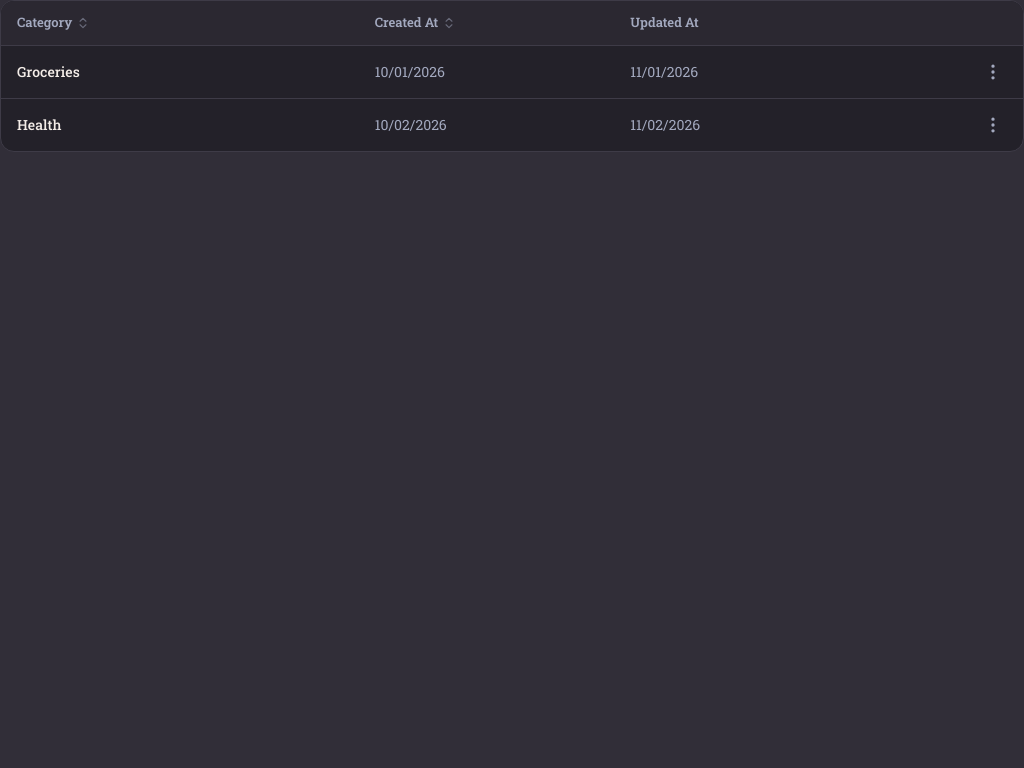
Test case: CategoryTable › edits a category and closes the modal on success
The width and height of the screenshot is (1024, 768).
Click the button without text in the row of "Groceries" at (993, 72), box 975,54 -> 1011,90
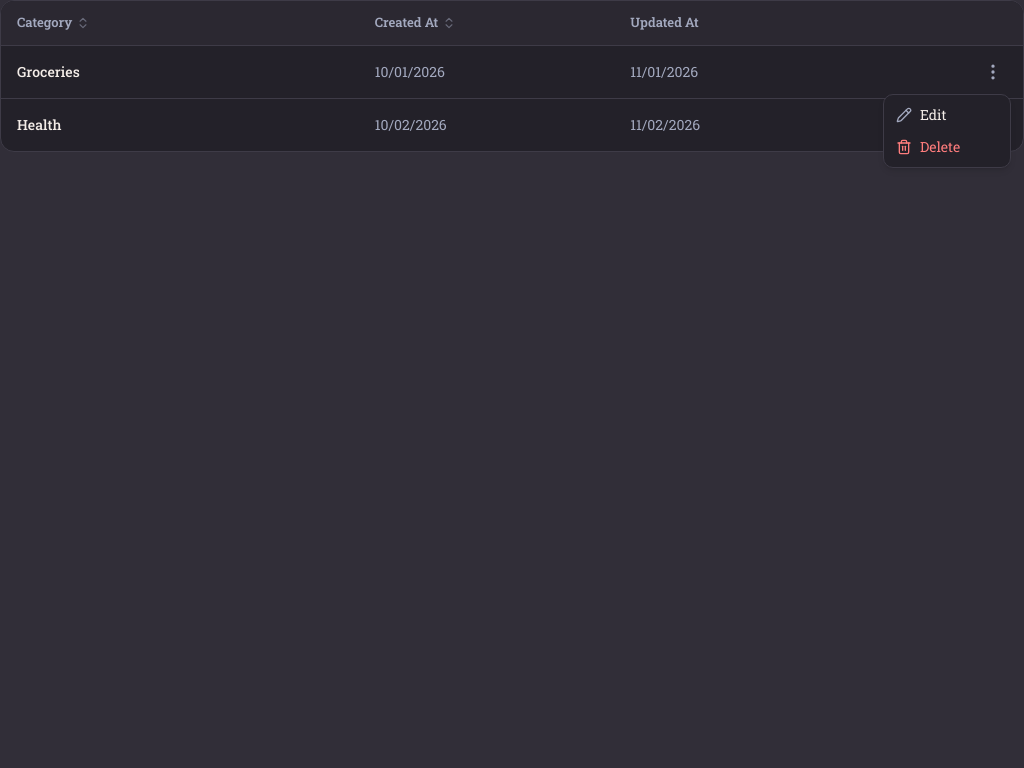
Click the menu item "Edit" at (921, 114), box 896,105 -> 947,124
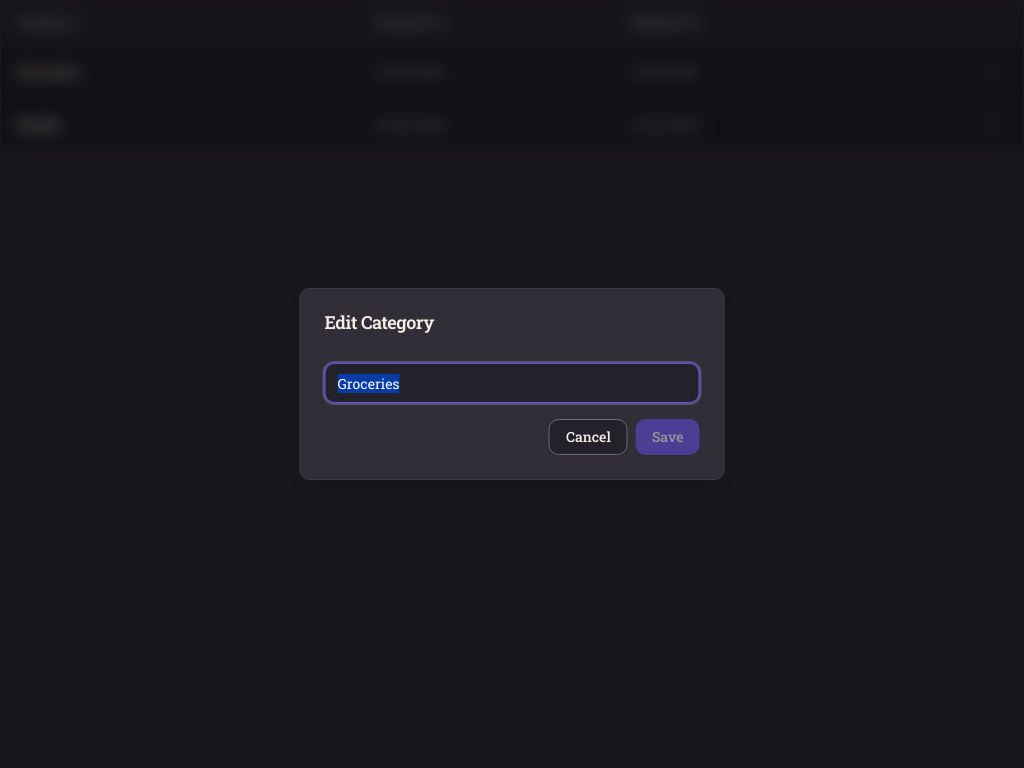
Expected: the field with placeholder "Category description" holds "Groceries"
Replace the text in the field with placeholder "Category description" with "Groc" at (512, 383), box 338,364 -> 686,402
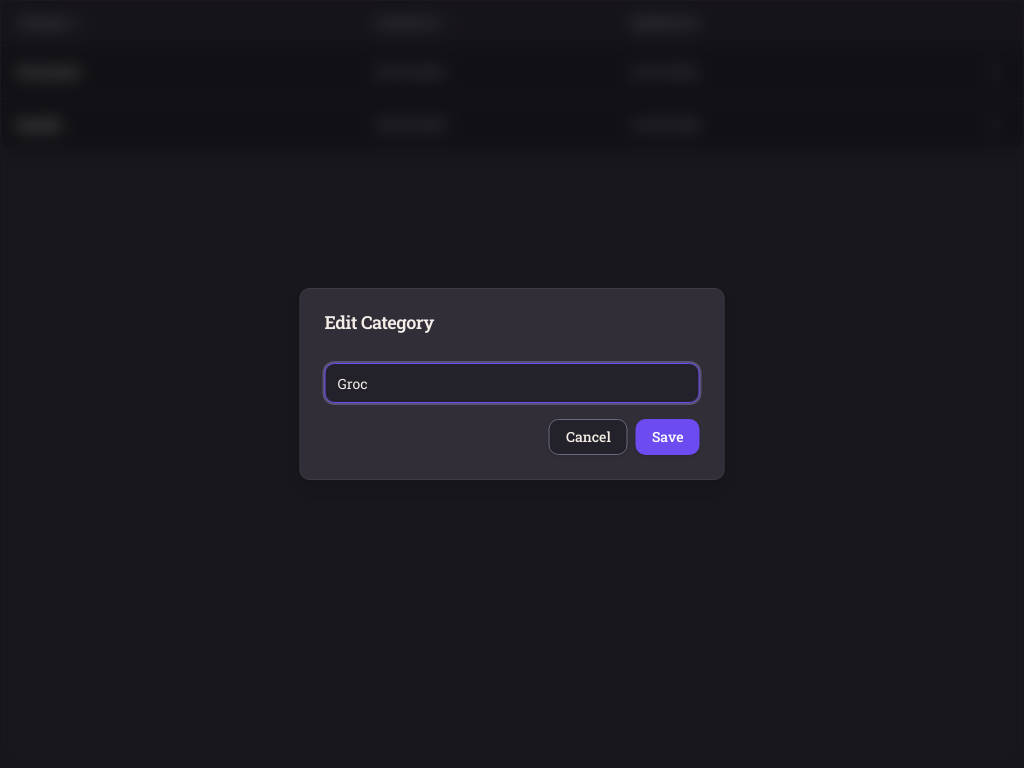
Click the button "Save" at (668, 437), box 636,419 -> 700,455
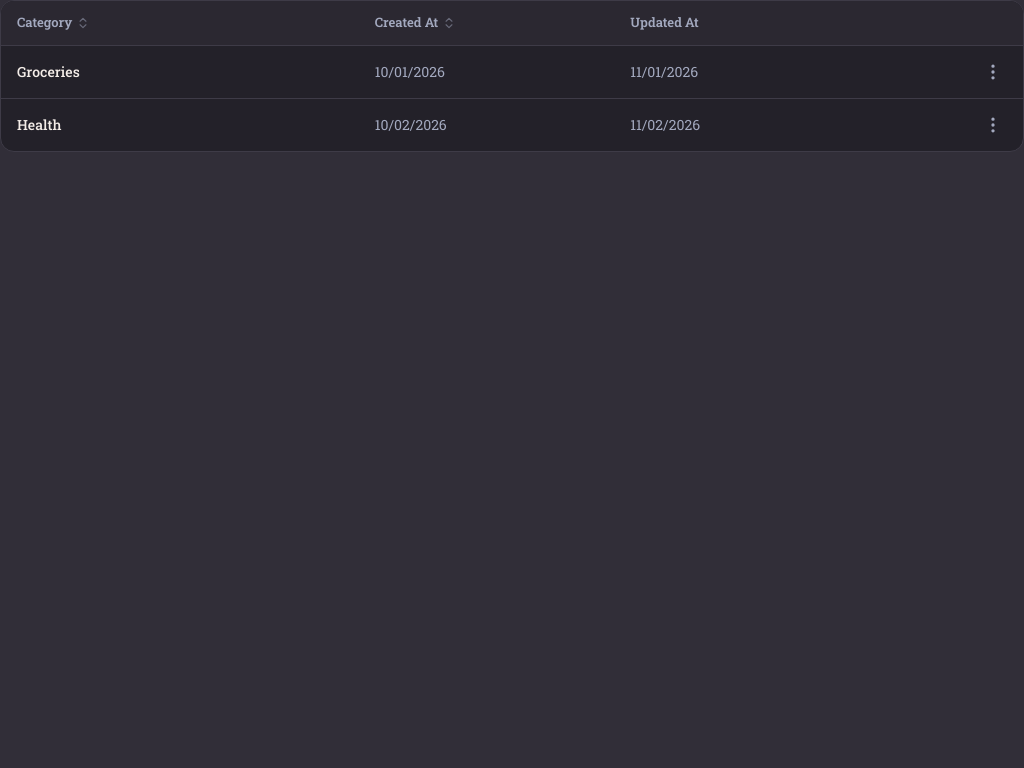
Expected: the dialog is gone
